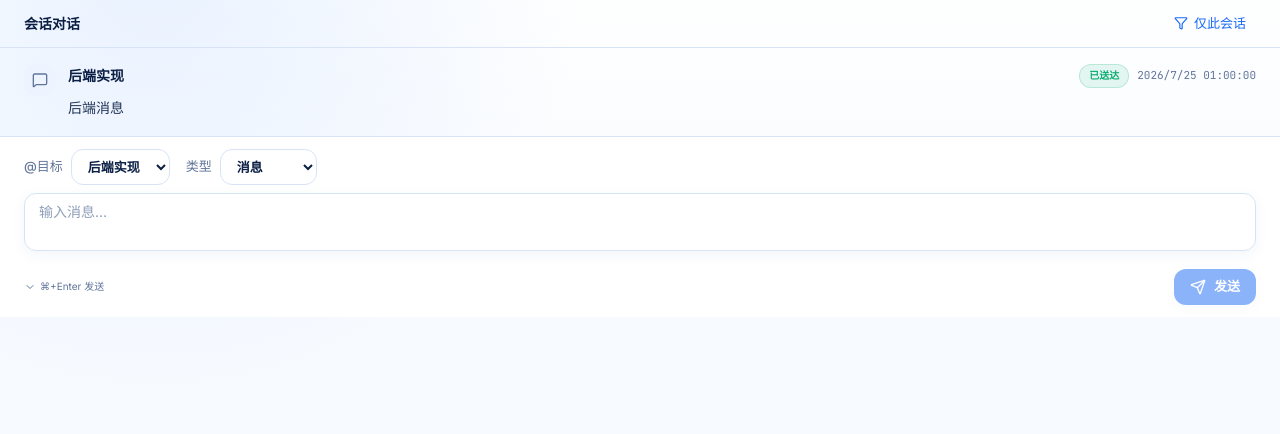
Scenario: TeamChannel filter toggle › shows all messages when filter is toggled to team channel
The width and height of the screenshot is (1280, 434).
# Click filter toggle button
Click the button "仅此会话" at (1210, 24), box 1164,8 -> 1256,39
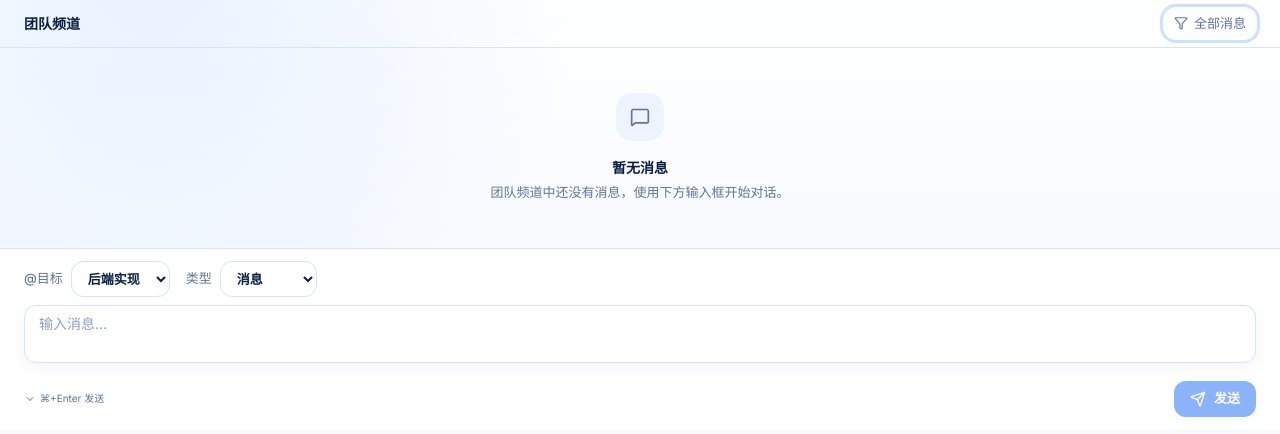
Result: the heading "团队频道" is shown at 24,13 -> 80,34
Result: the button "全部消息" is shown at 1164,8 -> 1256,39
